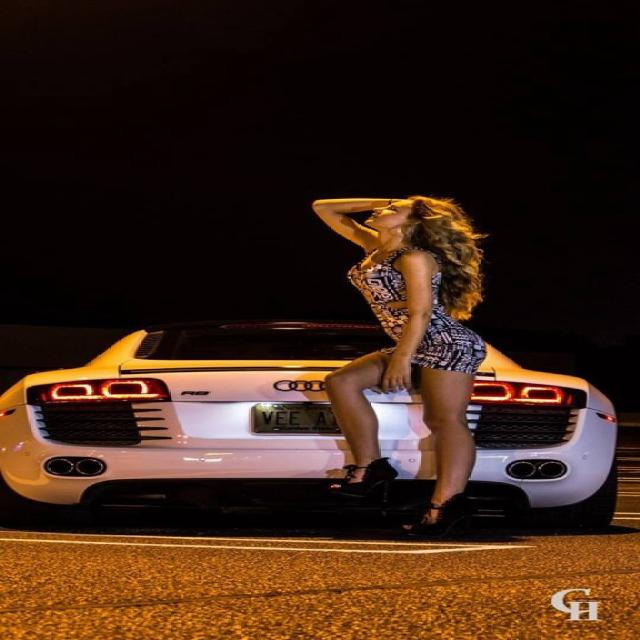car: (2, 316, 519, 524)
